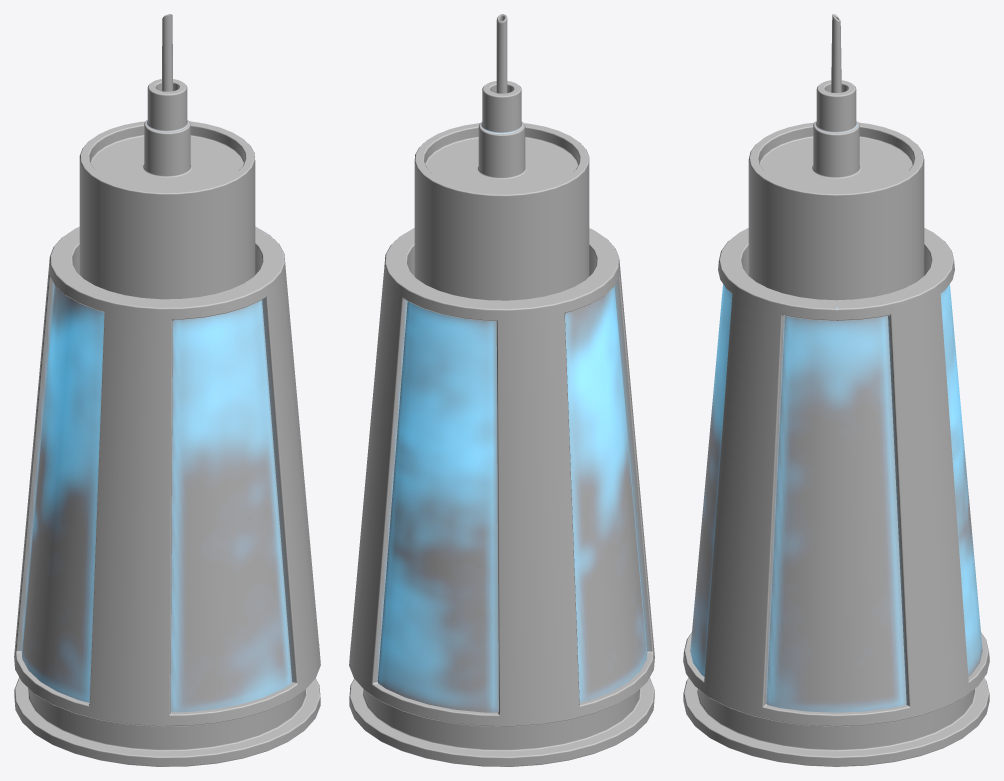
The model's file is SM_MedComponents-4.fbx.
3 renders of one model, left to right at view 1: azimuth 30°, elevation 25°; view 2: azimuth 150°, elevation 25°; view 3: azimuth 270°, elevation 25°, orthographic.
Parts seen in each view (by area): view 1: SM_MedComponents-4_LOD0; view 2: SM_MedComponents-4_LOD0; view 3: SM_MedComponents-4_LOD0.
Boxes of the visible parts, x1,y1,x2,y2 form: SM_MedComponents-4_LOD0: [14, 14, 320, 766]; SM_MedComponents-4_LOD0: [349, 14, 654, 766]; SM_MedComponents-4_LOD0: [683, 14, 989, 766].
Size of the model in its own units: 10.43 by 25.83 by 10.43.
